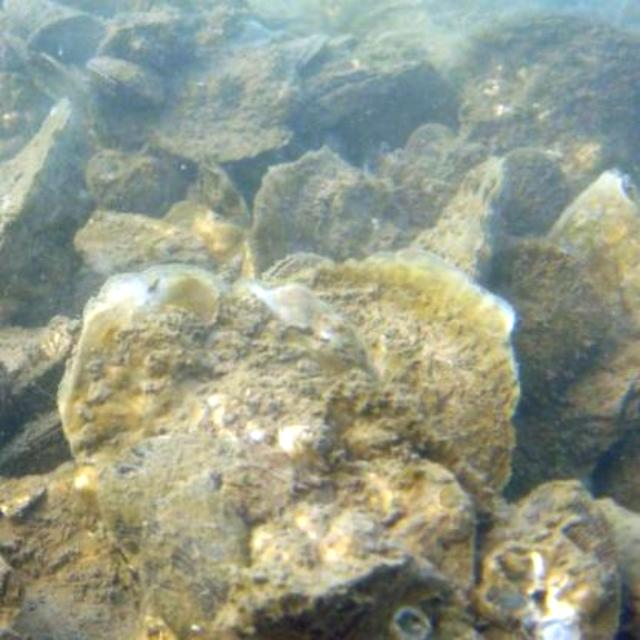Oyster-Closed: (55, 267, 481, 640), (280, 256, 520, 517), (521, 174, 640, 498), (480, 479, 623, 640), (254, 154, 407, 272), (494, 242, 606, 393), (0, 100, 75, 260), (419, 165, 513, 280), (77, 212, 215, 274), (301, 65, 423, 133), (89, 147, 182, 217), (498, 147, 574, 232), (86, 55, 167, 109), (27, 15, 105, 60)
